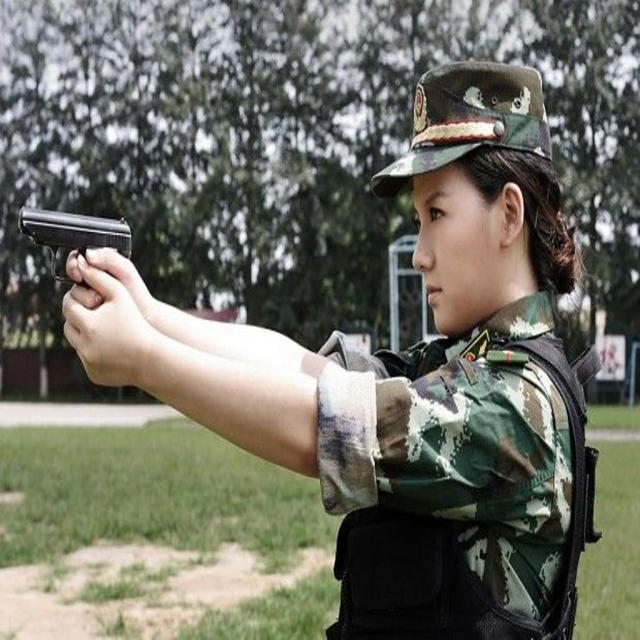Face: (412, 154, 492, 345)
